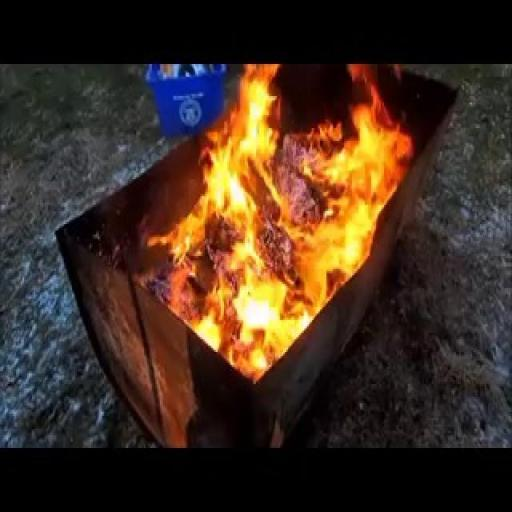smoke: (137, 66, 402, 388)
